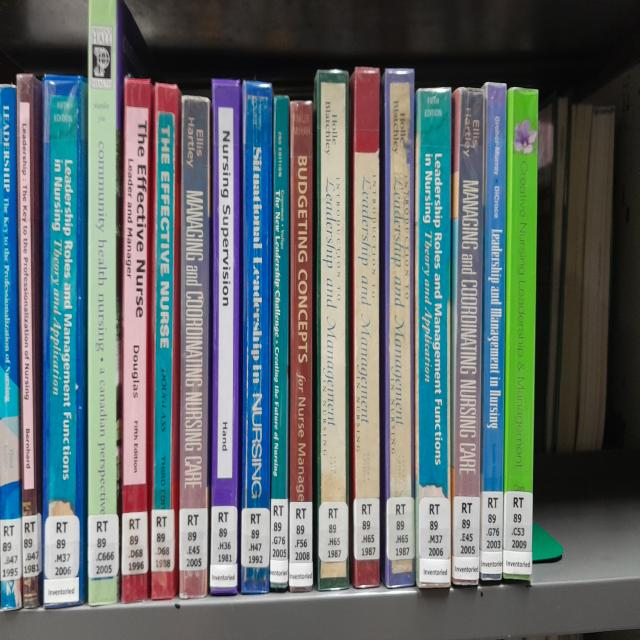book: (43, 75, 87, 609), (312, 69, 349, 590), (88, 0, 119, 605), (414, 88, 451, 588), (502, 87, 538, 581), (381, 69, 415, 587), (450, 88, 484, 585), (121, 78, 153, 602), (210, 79, 242, 595), (240, 81, 272, 594), (349, 67, 380, 588), (150, 83, 181, 600), (179, 95, 210, 599), (16, 74, 43, 608), (480, 82, 507, 581), (289, 100, 313, 592), (0, 84, 22, 610), (270, 95, 290, 591)
